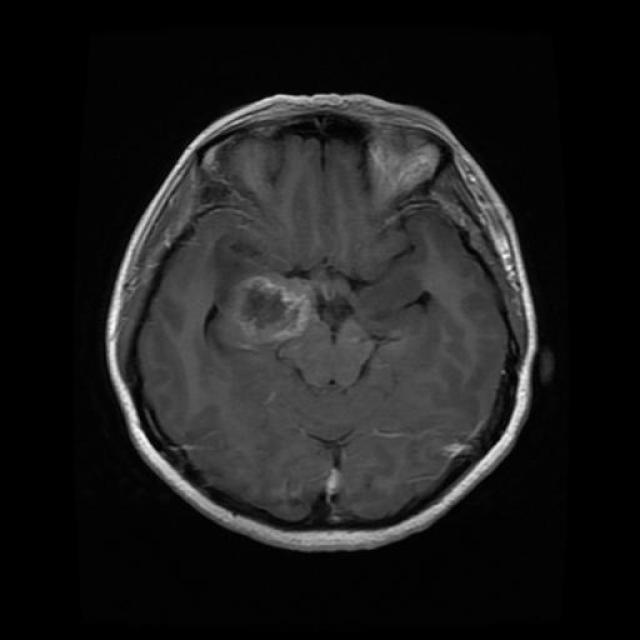brain_tumor: (238, 284, 299, 330)
